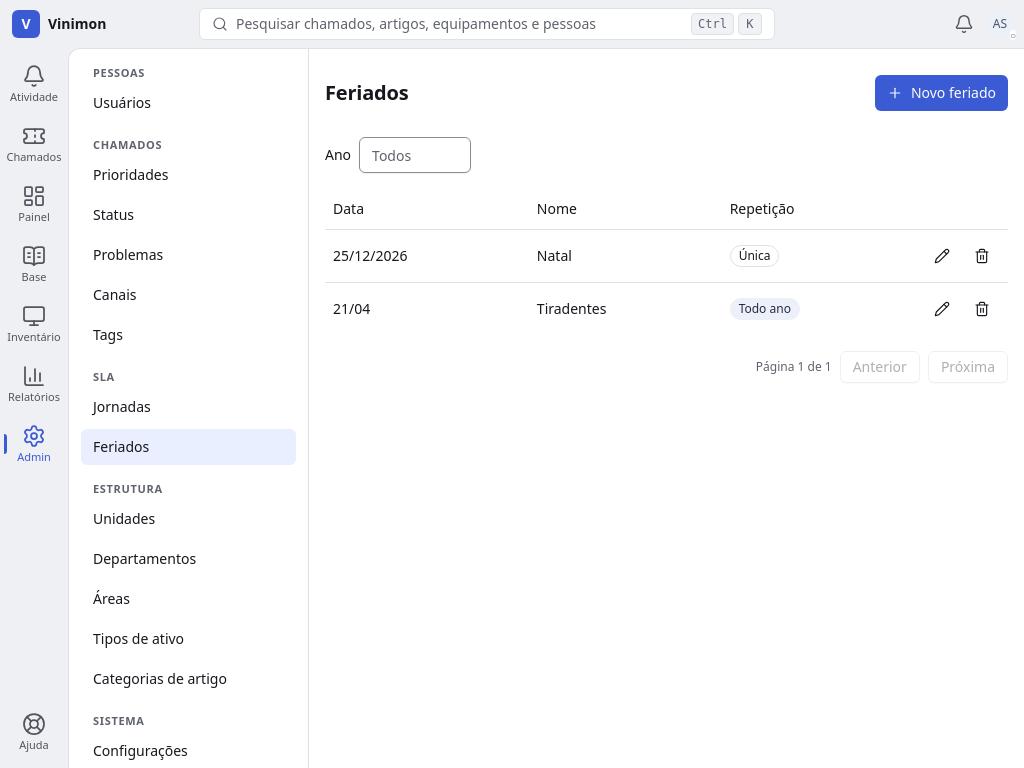
/admin/feriados › (c) 409 ao excluir mostra a mensagem do servidor
Click the button named "Excluir Natal": (982, 256) [964, 238, 1000, 274]
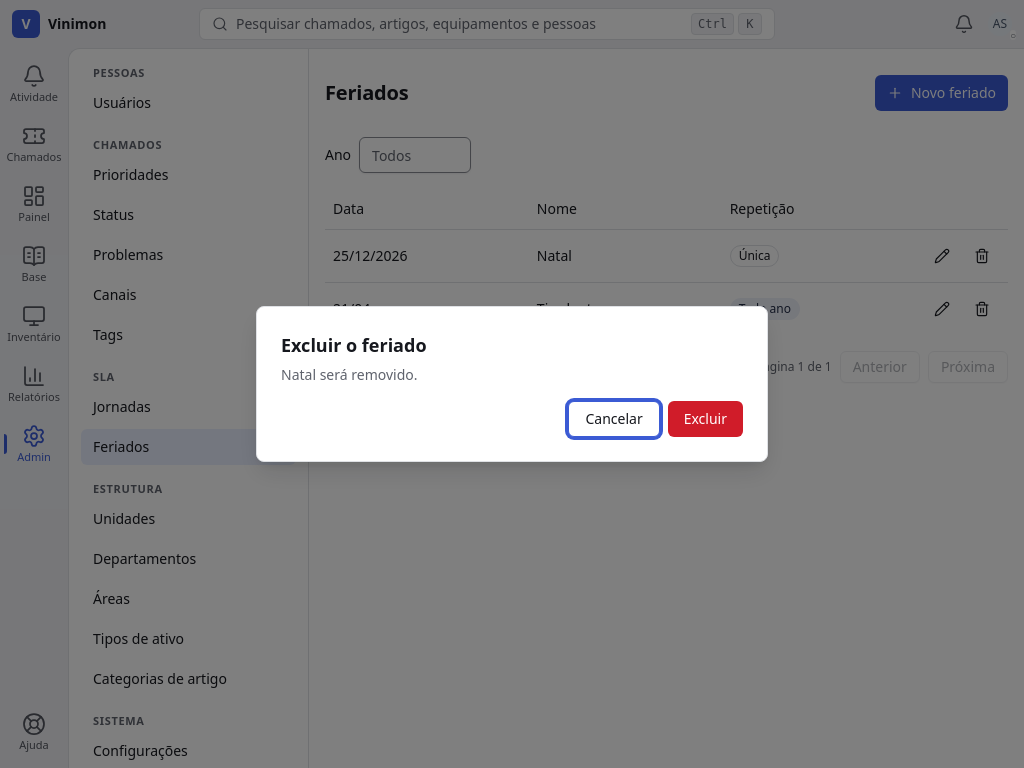
Click the button "Excluir": (705, 419) [668, 401, 743, 437]
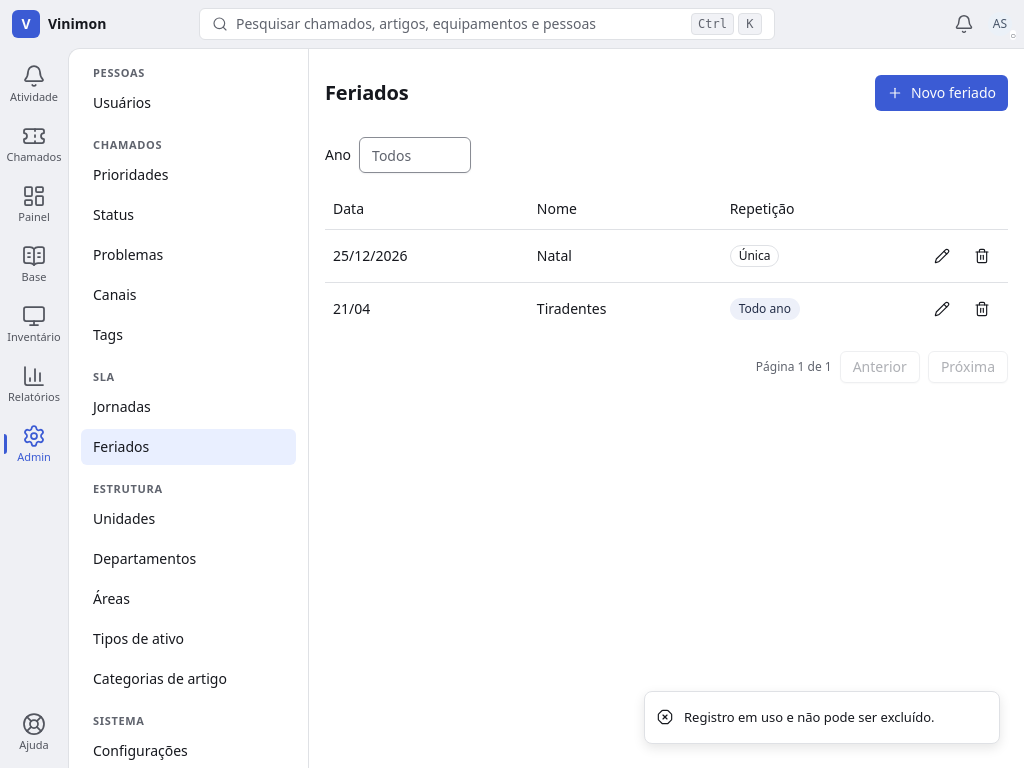
expect the text "Registro em uso e não pode ser excluído." is shown: met, box [684, 708, 935, 727]
